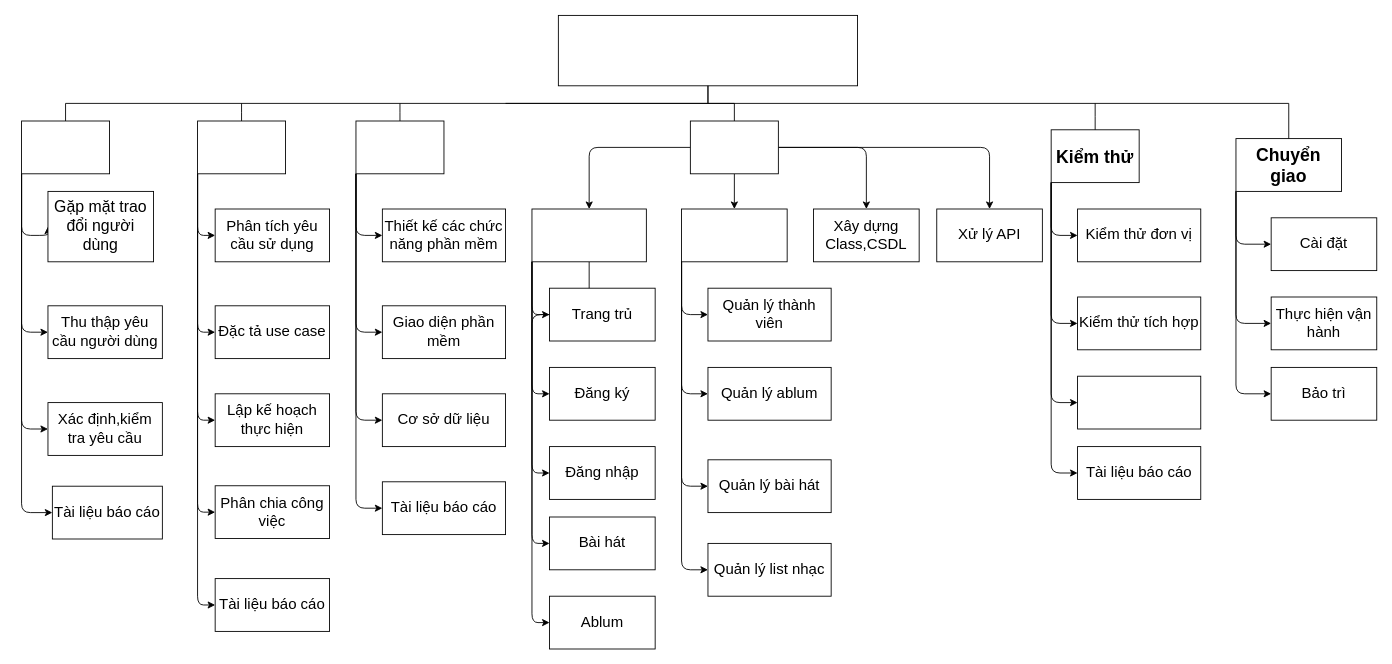
Image size: 1392x664. Some labels were removed from this diagram. Here are the shapes that lost their labels. From the top down, the centre of each, then its label:
the point at 707,50: Quản lý phần mềm nghe nhạc
the point at 65,147: Khảo sát
the point at 241,147: Phân tích
the point at 399,147: Thiết kế
the point at 733,147: Lập trình
the point at 588,235: Thiết kế giao diện UI/UX
the point at 734,235: Lập trình backend
the point at 1139,402: Test lỗi hệ thống
